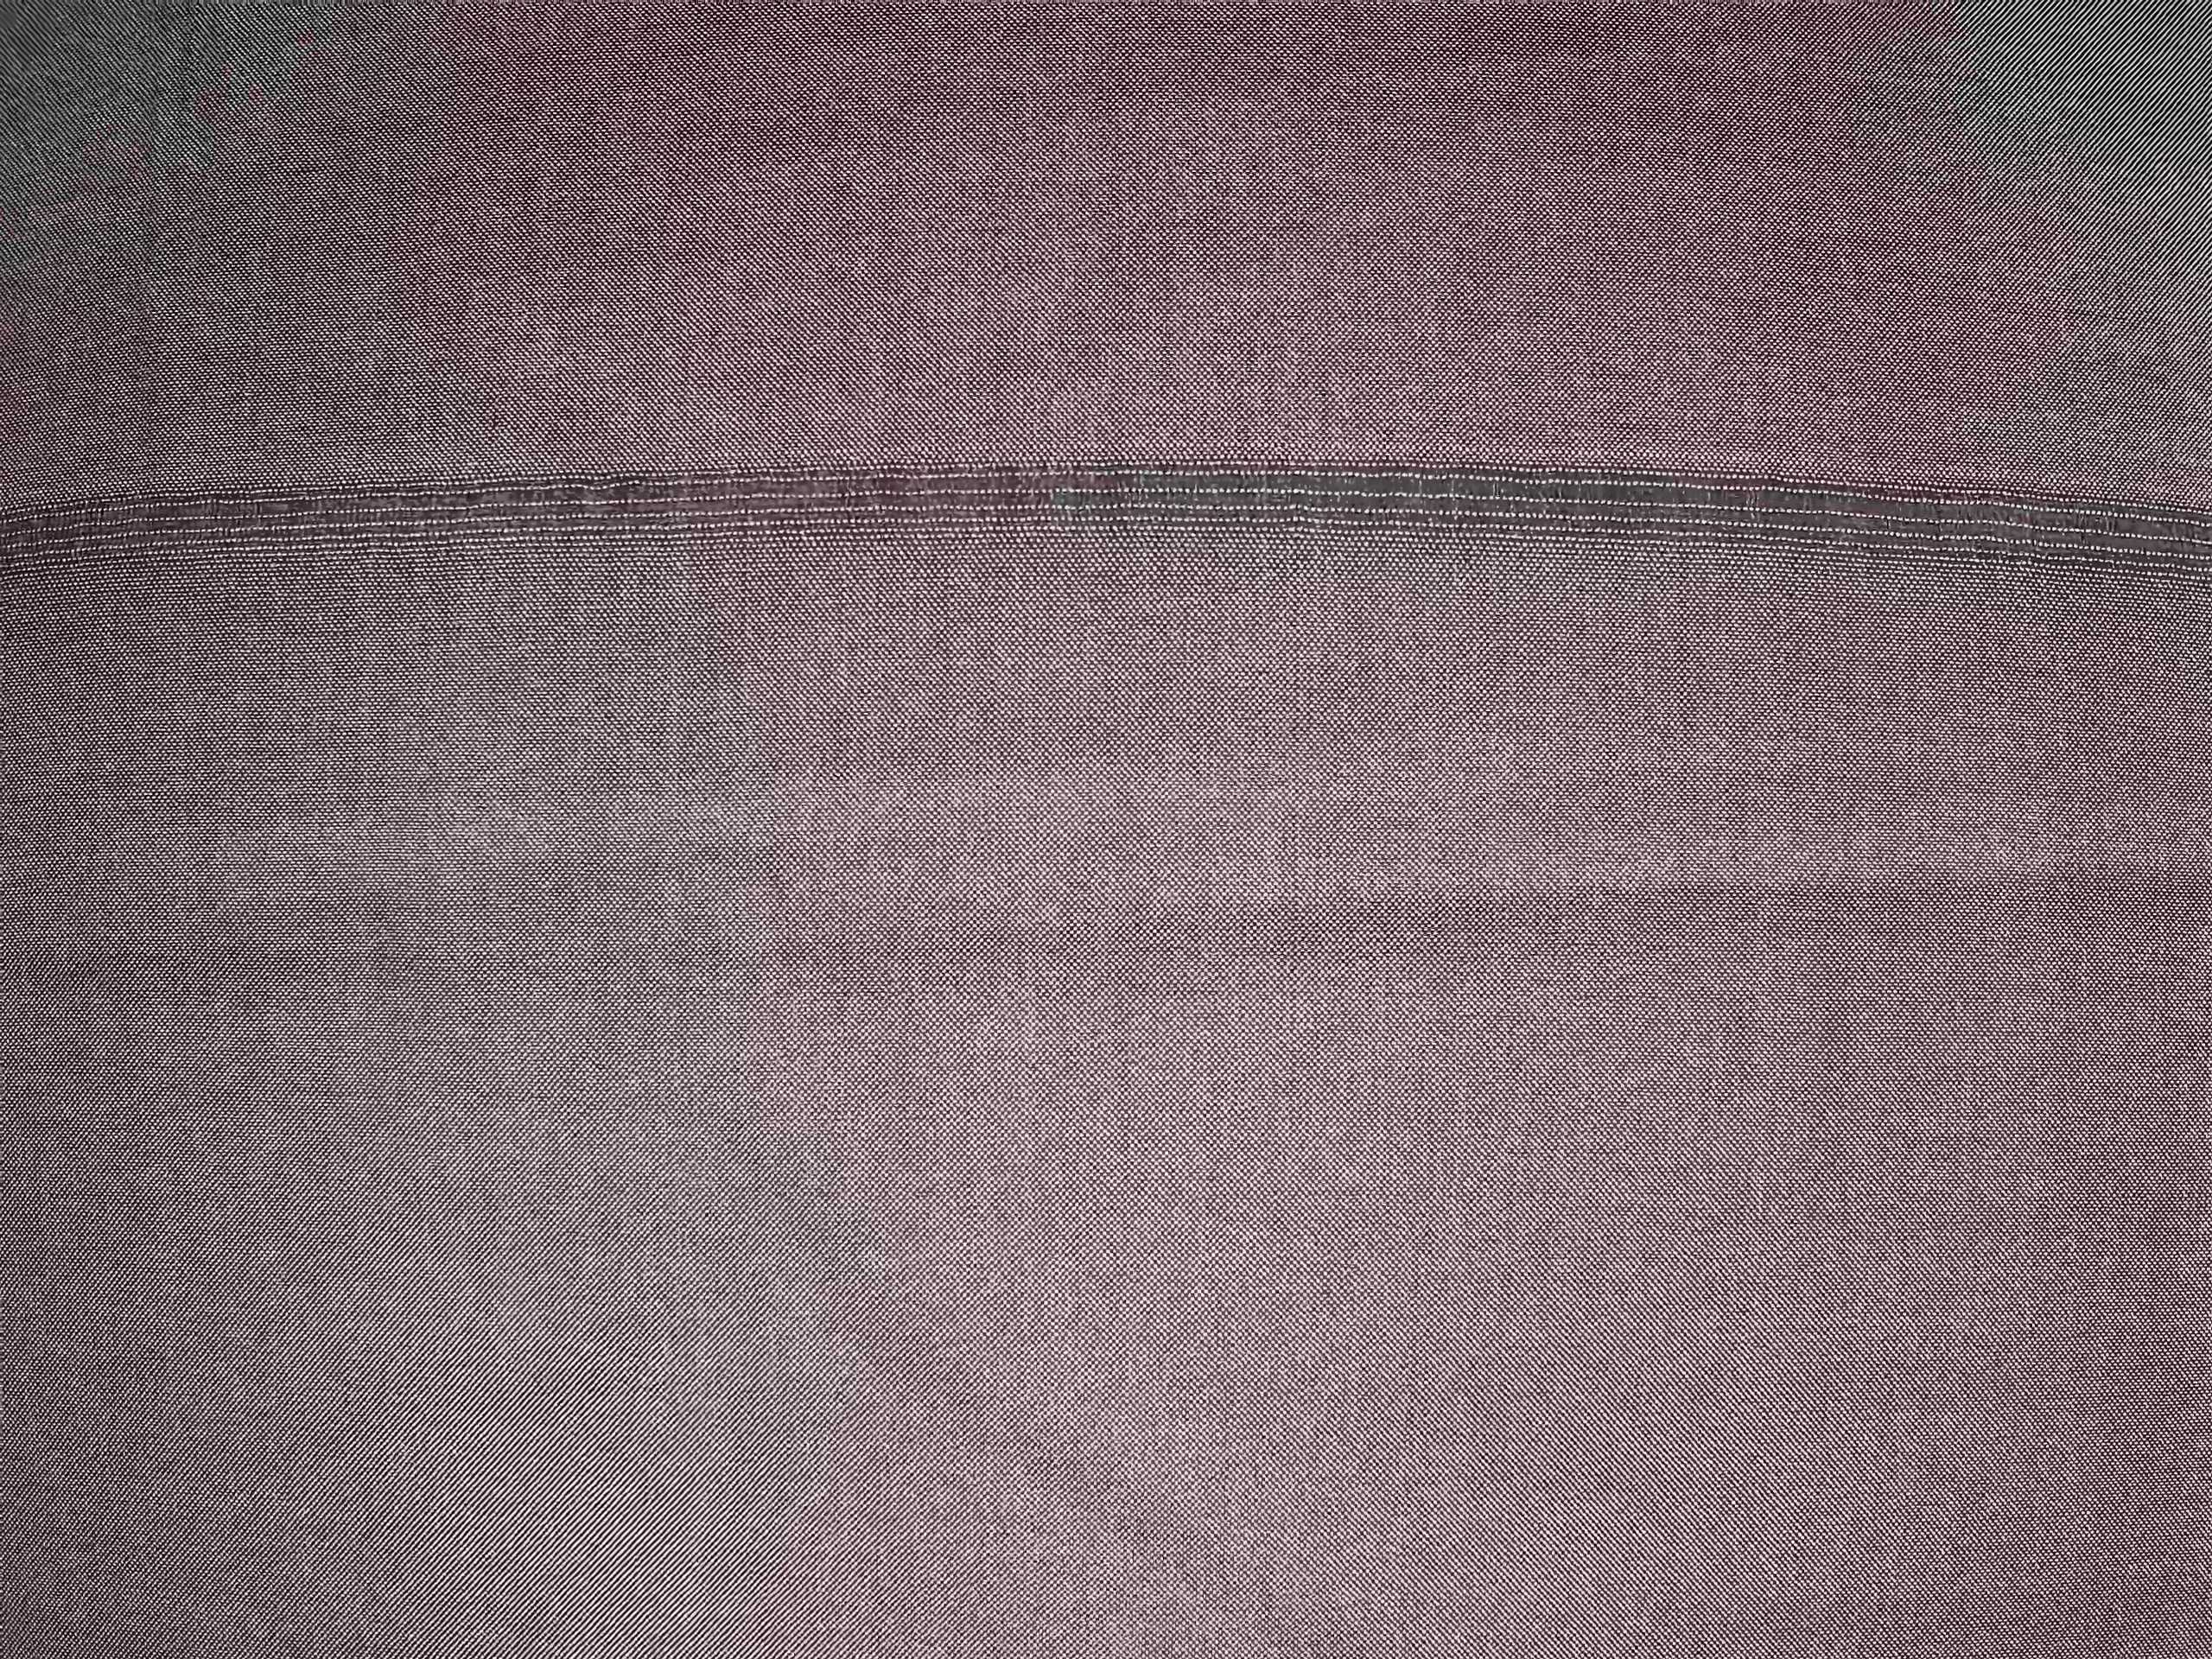thin-spinning: (0, 448, 2212, 610)
